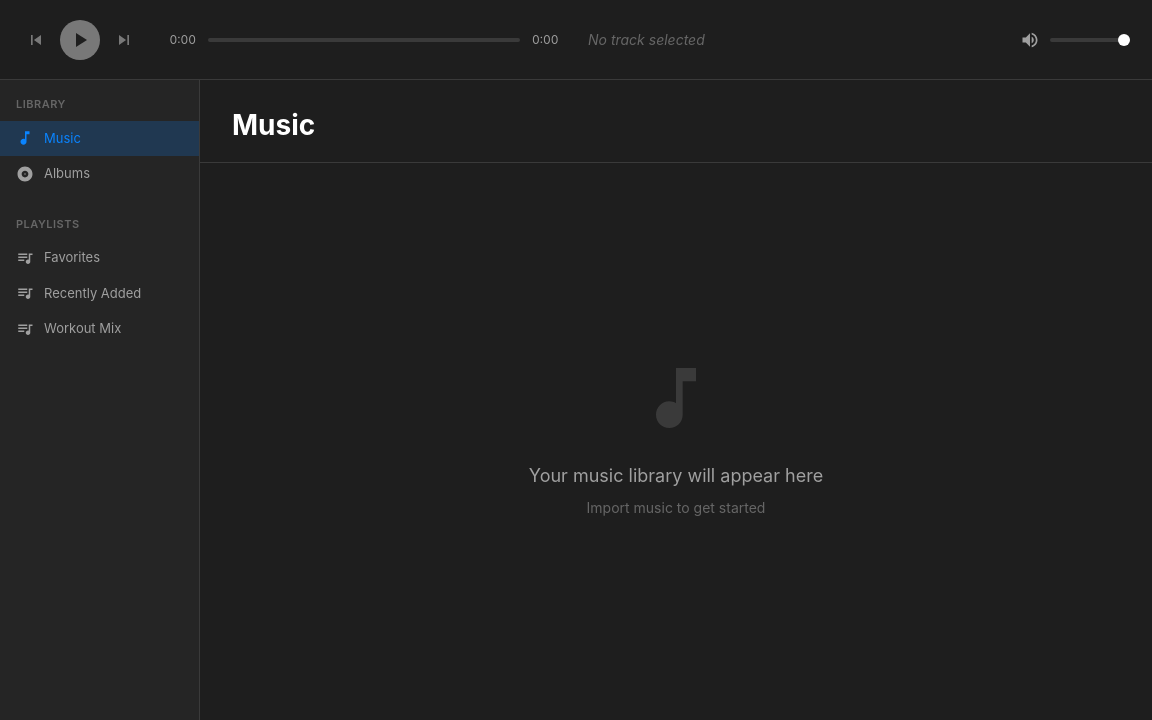
Test case: App Component › View Navigation › clicking playlist in sidebar shows playlist view
Click the button "Favorites" at (58, 258), box x1=16 y1=249 x2=100 y2=267
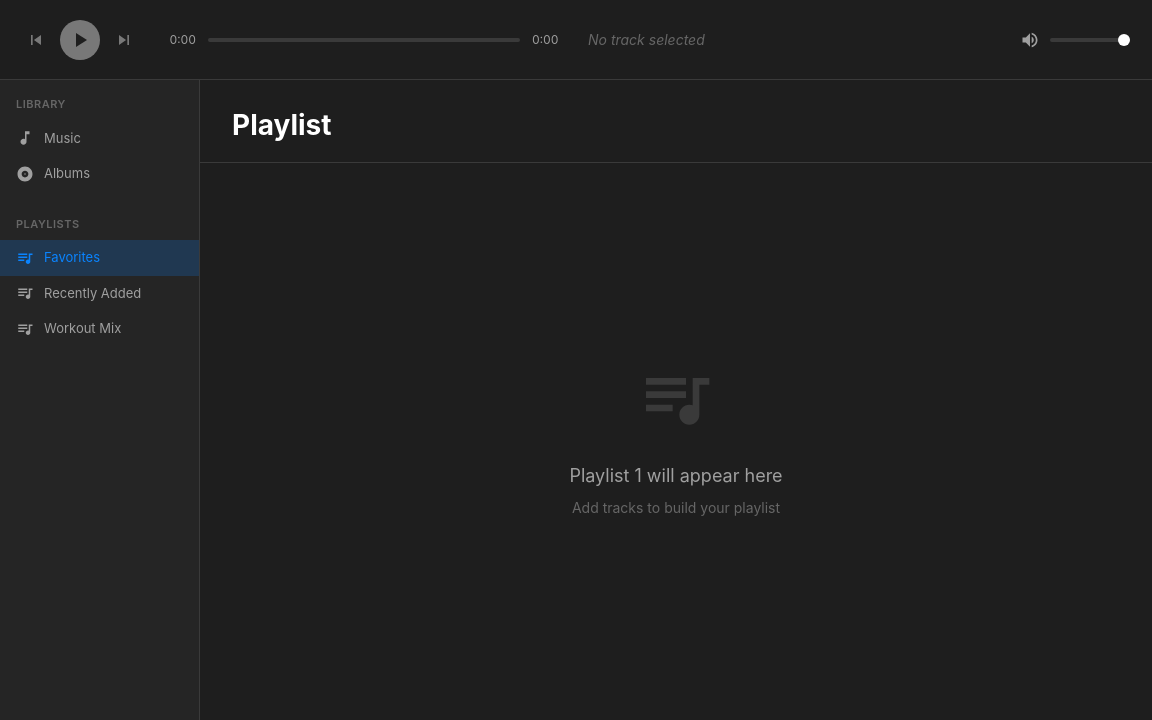
Now the heading "Playlist" is shown, box x1=232 y1=104 x2=332 y2=146
